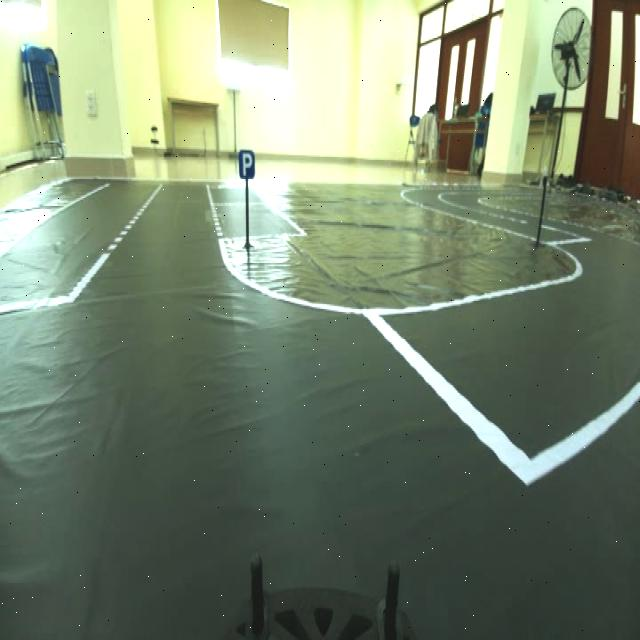parking: (234, 142, 262, 184)
